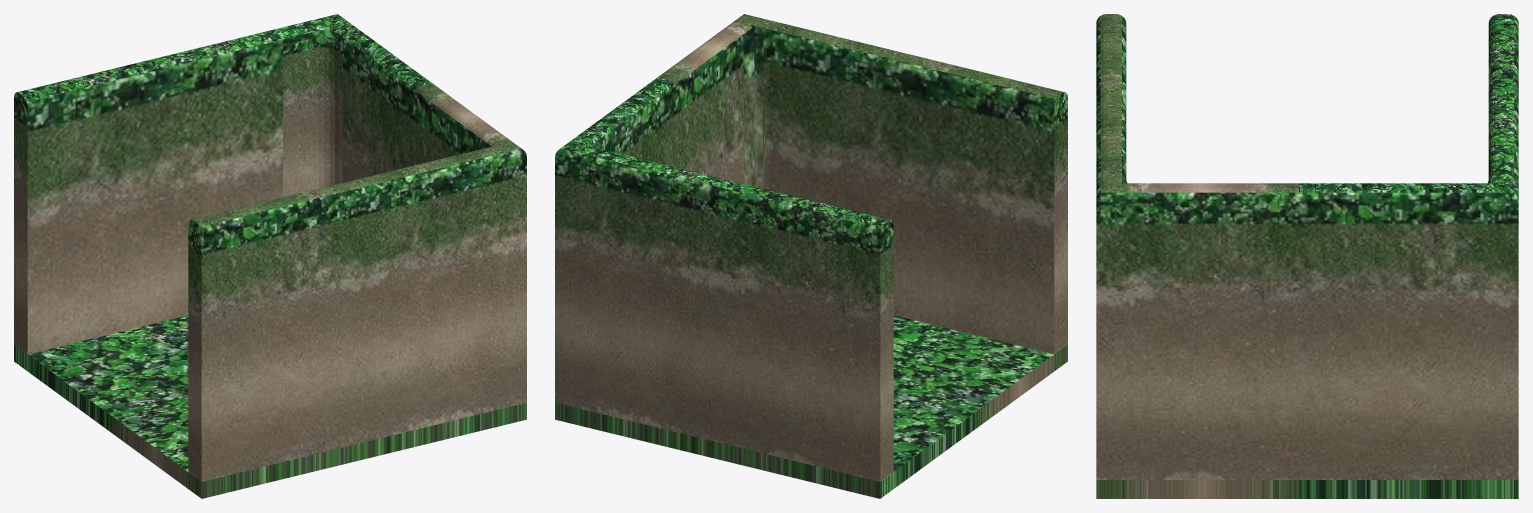
Rendered from DeadEnd.obj.
The picture shows the model from 3 angles, left to right: view 1: azimuth 30°, elevation 25°; view 2: azimuth 150°, elevation 25°; view 3: azimuth 270°, elevation 25°; orthographic projection. The views are drawn at different scales.
Parts seen in each view (by area): view 1: Plane.001_Plane.002; view 2: Plane.001_Plane.002; view 3: Plane.001_Plane.002.
Part boxes in pixels (<box>): Plane.001_Plane.002: <box>14,14,526,498</box>; Plane.001_Plane.002: <box>555,14,1067,498</box>; Plane.001_Plane.002: <box>1096,14,1518,498</box>.
Bounding box in the file's own units: 2 × 1.6 × 2.
Materials: 1 (1 with a texture image).
